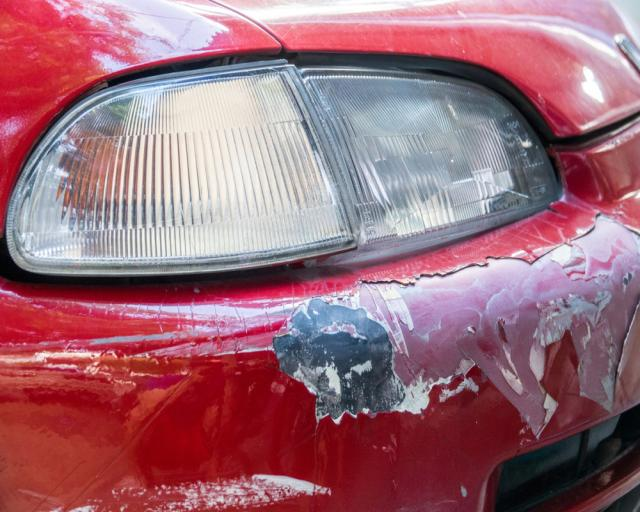scratch: (267, 209, 640, 436), (58, 475, 333, 512)
